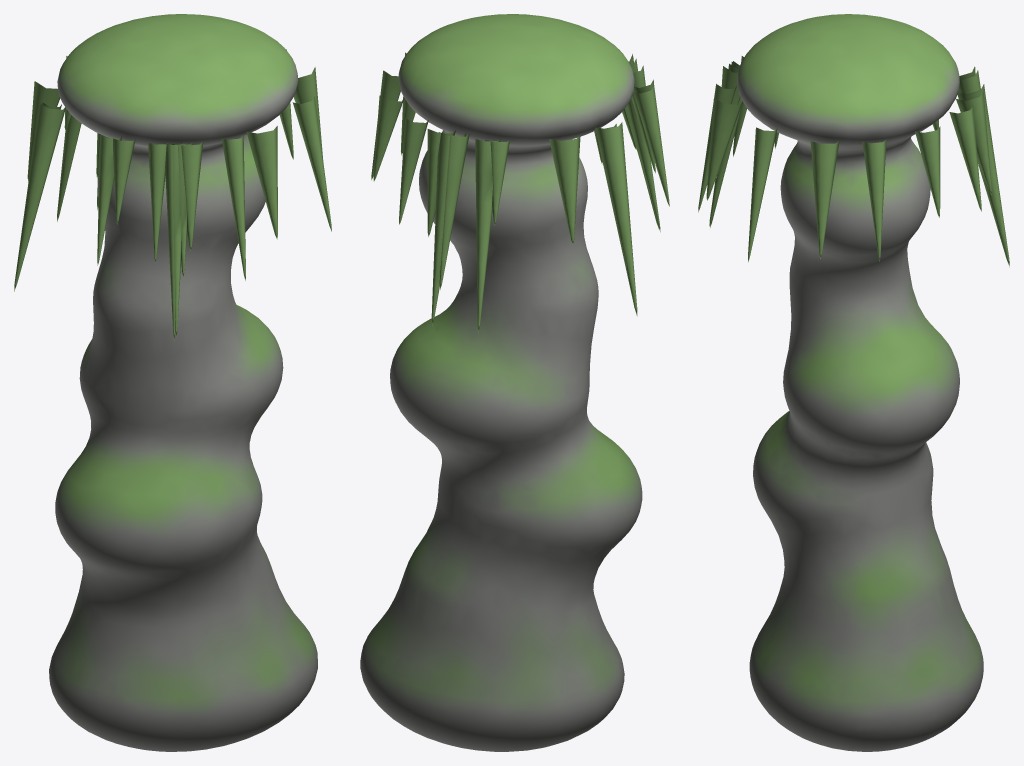
Rendered from pilier.glb.
3 renders of one model, left to right at view 1: azimuth 30°, elevation 25°; view 2: azimuth 150°, elevation 25°; view 3: azimuth 270°, elevation 25°, orthographic. The views are drawn at different scales.
Parts seen in each view (by area): view 1: roche__rock, mousse7__moss, mousse1__moss, mousse15__moss, mousse8__moss, mousse5__moss, mousse2__moss, mousse14__moss, mousse12__moss, mousse20__moss, mousse6__moss, mousse18__moss (+3 smaller); view 2: roche__rock, mousse7__moss, mousse18__moss, mousse21__moss, mousse3__moss, mousse9__moss, mousse5__moss, mousse19__moss, mousse4__moss, mousse17__moss, mousse20__moss, mousse10__moss (+1 smaller); view 3: roche__rock, mousse16__moss, mousse13__moss, mousse8__moss, mousse1__moss, mousse9__moss, mousse19__moss, mousse4__moss, mousse17__moss, mousse15__moss, mousse12__moss.
Boxes of the visible parts, left/top/right/bottom form: roche__rock: left=49, top=14, right=317, bottom=751; mousse7__moss: left=14, top=103, right=65, bottom=291; mousse1__moss: left=246, top=126, right=277, bottom=239; mousse15__moss: left=221, top=135, right=245, bottom=280; mousse8__moss: left=292, top=96, right=331, bottom=231; mousse5__moss: left=97, top=135, right=122, bottom=265; mousse2__moss: left=148, top=142, right=168, bottom=262; mousse14__moss: left=173, top=141, right=203, bottom=250; mousse12__moss: left=165, top=142, right=187, bottom=337; mousse20__moss: left=164, top=142, right=185, bottom=341; mousse6__moss: left=113, top=138, right=135, bottom=224; mousse18__moss: left=57, top=115, right=81, bottom=221; roche__rock: left=360, top=14, right=642, bottom=751; mousse7__moss: left=595, top=122, right=637, bottom=316; mousse18__moss: left=475, top=138, right=500, bottom=333; mousse21__moss: left=549, top=135, right=580, bottom=244; mousse3__moss: left=439, top=133, right=469, bottom=289; mousse9__moss: left=431, top=132, right=466, bottom=326; mousse5__moss: left=633, top=85, right=669, bottom=206; mousse19__moss: left=399, top=118, right=428, bottom=224; mousse4__moss: left=373, top=95, right=404, bottom=181; mousse17__moss: left=427, top=129, right=455, bottom=236; mousse20__moss: left=626, top=59, right=660, bottom=232; mousse10__moss: left=485, top=139, right=510, bottom=225; roche__rock: left=737, top=14, right=983, bottom=751; mousse16__moss: left=810, top=140, right=839, bottom=259; mousse13__moss: left=862, top=139, right=886, bottom=261; mousse8__moss: left=748, top=127, right=777, bottom=262; mousse1__moss: left=706, top=98, right=742, bottom=200; mousse9__moss: left=957, top=85, right=1009, bottom=267; mousse19__moss: left=949, top=106, right=981, bottom=211; mousse4__moss: left=915, top=126, right=940, bottom=217; mousse17__moss: left=956, top=91, right=991, bottom=194; mousse15__moss: left=698, top=84, right=736, bottom=212; mousse12__moss: left=709, top=62, right=741, bottom=226.
Bounding box in the file's own units: 3.83 × 9.3 × 3.83.
